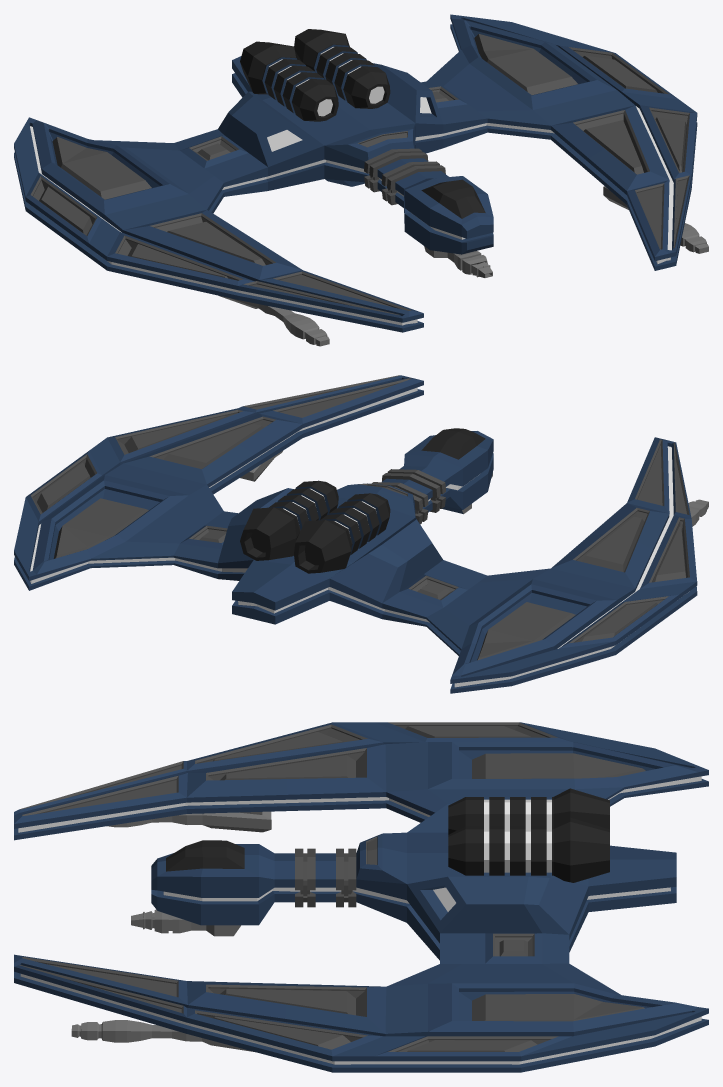
Rendered from PlayerShip.fbx.
3 renders of one model, top to bottom at view 1: azimuth 30°, elevation 25°; view 2: azimuth 150°, elevation 25°; view 3: azimuth 270°, elevation 25°, orthographic. The views are drawn at different scales.
Visible parts, largest first — view 1: Cube; view 2: Cube; view 3: Cube.
Part boxes in pixels (x1,y1,x2,y2): Cube: [14, 14, 708, 346]; Cube: [14, 375, 708, 693]; Cube: [14, 722, 708, 1072].
Size of the model in its own units: 24.83 by 4.36 by 21.84.
